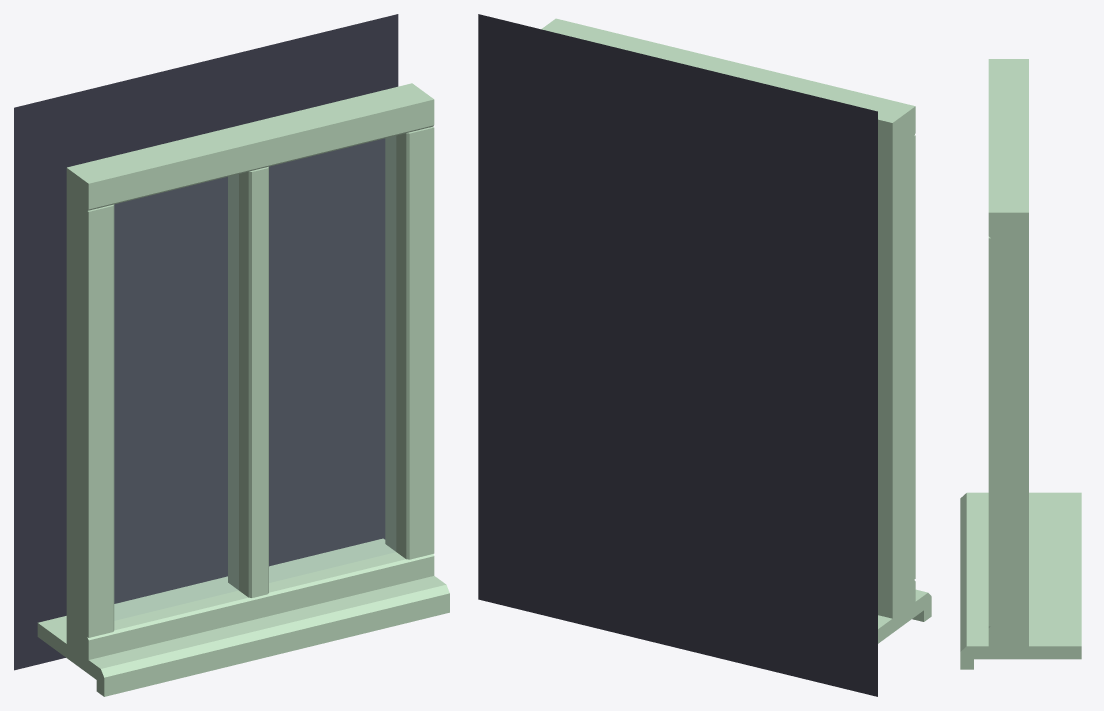
The model's file is mod_window_double.glb.
The picture shows the model from 3 angles, left to right: view 1: azimuth 30°, elevation 25°; view 2: azimuth 150°, elevation 25°; view 3: azimuth 270°, elevation 25°; orthographic projection. The views are drawn at different scales.
Visible parts, largest first — view 1: curtain, Glass, frame_right, frame_left, frame_top, mullion_v, sill, frame_bottom; view 2: curtain, frame_left, frame_top, sill, frame_bottom; view 3: frame_right, sill, frame_top, frame_bottom.
Boxes of the visible parts, box(x1,y1,x2,y2) form: curtain: box(14, 14, 398, 670); Glass: box(115, 136, 395, 619); frame_right: box(385, 126, 434, 559); frame_left: box(66, 196, 114, 637); frame_top: box(66, 83, 434, 210); mullion_v: box(228, 166, 268, 597); sill: box(37, 538, 449, 696); frame_bottom: box(66, 544, 434, 665); curtain: box(478, 14, 877, 696); frame_left: box(878, 135, 915, 595); frame_top: box(541, 18, 915, 152); sill: box(878, 589, 931, 643); frame_bottom: box(878, 580, 915, 618); frame_right: box(988, 236, 1028, 626); sill: box(960, 492, 1081, 669); frame_top: box(988, 59, 1028, 238); frame_bottom: box(988, 626, 1028, 651).
Bounding box in the file's own units: 1 × 1.4 × 0.32.
